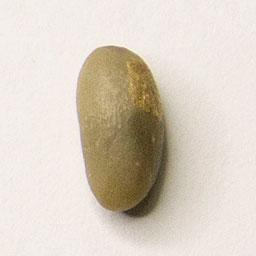longberry: (72, 40, 168, 214)
